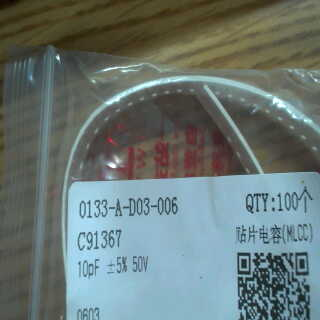10pF: (75, 254, 100, 281)
